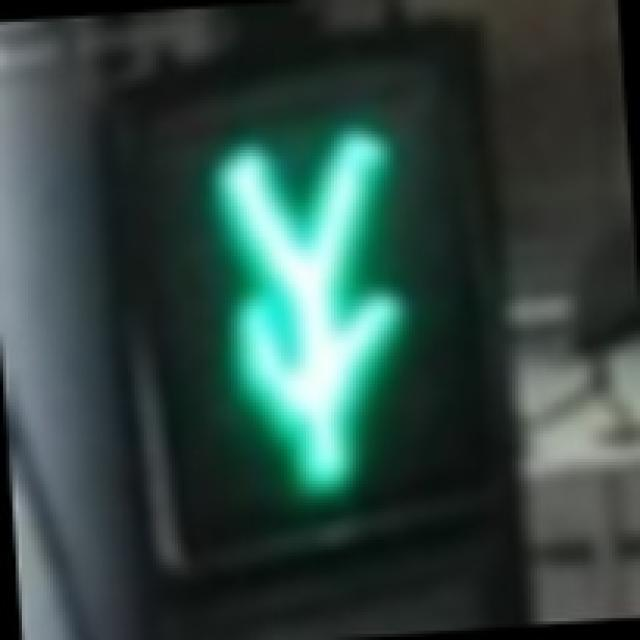green_light: (150, 90, 481, 540)
